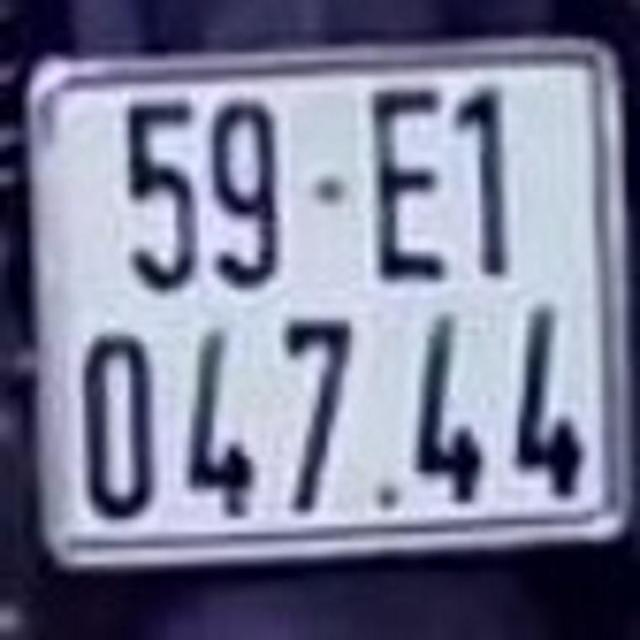0: (75, 324, 159, 524)
1: (453, 82, 515, 280)
4: (508, 294, 592, 502), (180, 323, 258, 519), (411, 304, 485, 507)
5: (120, 97, 202, 296)
7: (277, 309, 355, 516)
9: (207, 91, 286, 295)
E: (361, 79, 448, 283)
